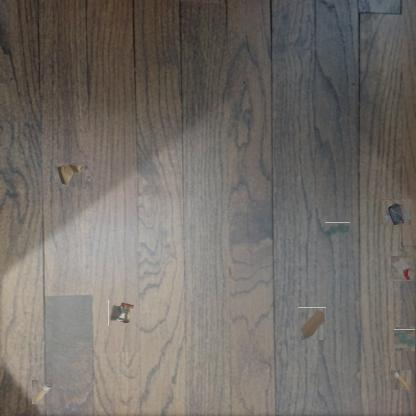dirty: (298, 307, 326, 340), (381, 200, 411, 226), (55, 163, 85, 187), (108, 300, 135, 326), (390, 256, 414, 280), (32, 380, 54, 404), (391, 370, 411, 390)
liquid: (394, 328, 416, 349), (324, 222, 350, 237)
